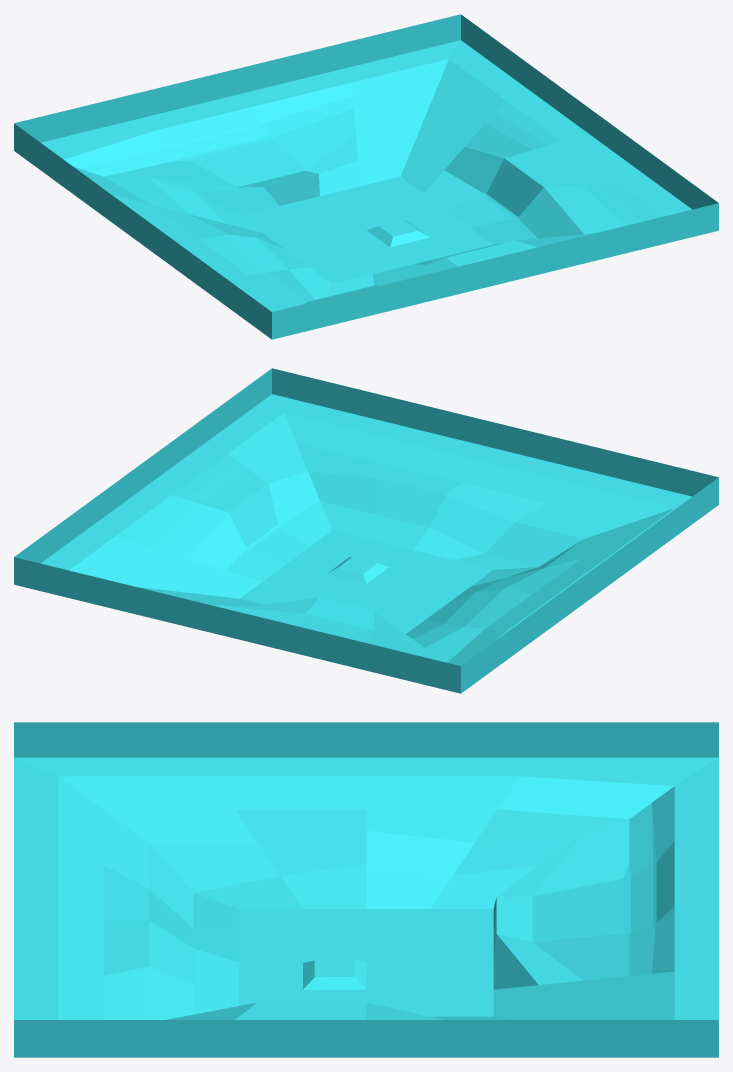
Rendered from ARENA.fbx.
3 views of the same model, one above another, from view 1: azimuth 30°, elevation 25°; view 2: azimuth 150°, elevation 25°; view 3: azimuth 270°, elevation 25° (orthographic). The views are drawn at different scales.
Visible parts, largest first — view 1: Cube; view 2: Cube; view 3: Cube.
Part boxes in pixels (<box>): Cube: <box>14,14,718,339</box>; Cube: <box>14,368,718,693</box>; Cube: <box>14,722,718,1057</box>.
Bounding box in the file's own units: 80000 × 11842 × 80000.
